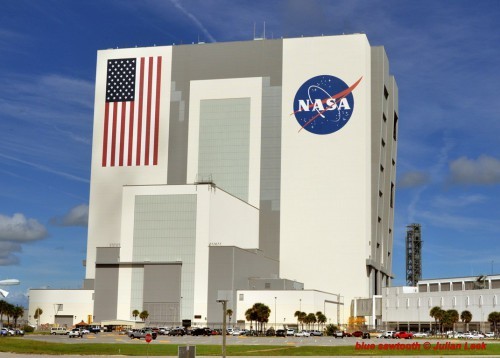NASA: (289, 74, 364, 136)
